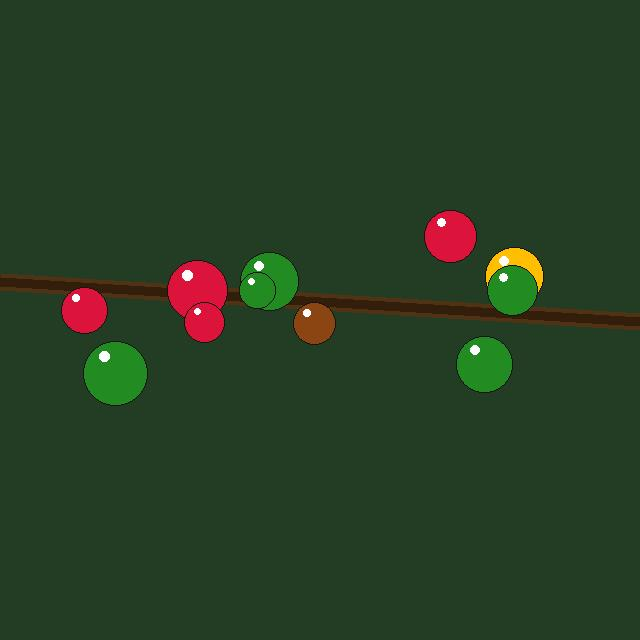Overripe: (293, 302, 335, 344)
Ripe: (167, 260, 227, 320), (424, 210, 476, 262), (61, 287, 107, 333), (184, 302, 224, 342)
Ripening: (485, 247, 543, 305)
Unripe: (83, 341, 147, 405), (240, 252, 298, 310), (456, 336, 512, 392), (487, 265, 537, 315), (239, 272, 275, 308)
